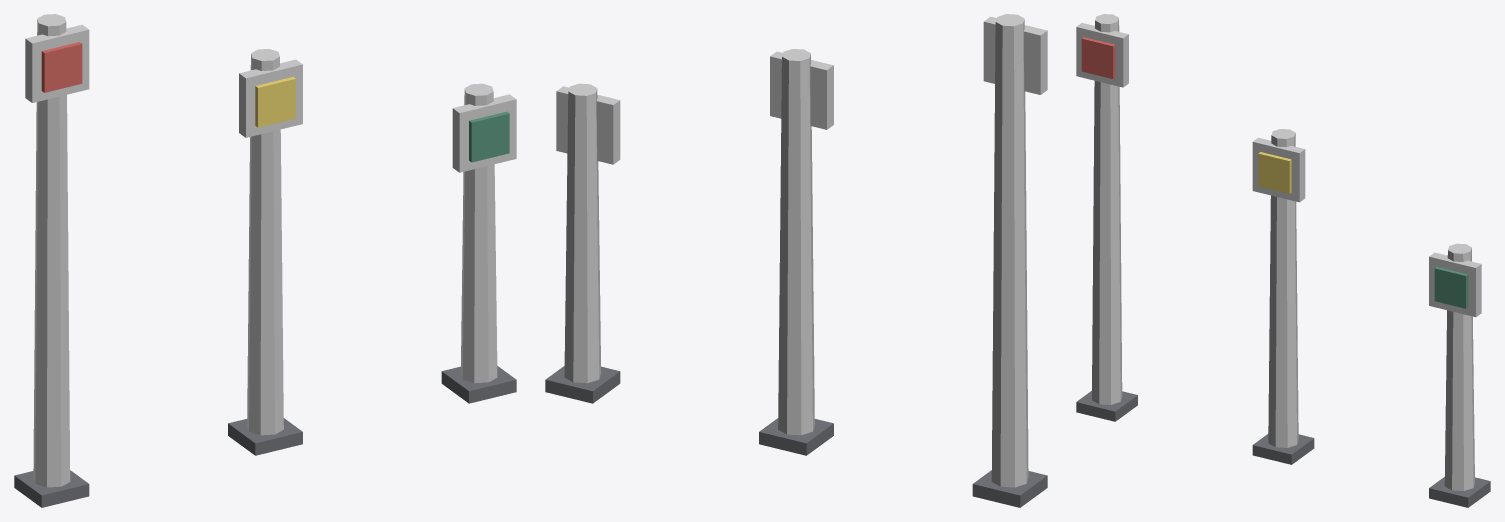
File: racecourse-and-parade-ring-distance-pole-set-fc6c69e4__38602.glb
The picture shows the model from 3 angles, left to right: view 1: azimuth 30°, elevation 25°; view 2: azimuth 150°, elevation 25°; view 3: azimuth 330°, elevation 25°; orthographic projection. The views are drawn at different scales.
Visible parts, largest first — view 1: distance-pole-set; view 2: distance-pole-set; view 3: distance-pole-set.
Part boxes in pixels (x1=…): distance-pole-set: x1=14, y1=14, x2=516, y2=507; distance-pole-set: x1=545, y1=14, x2=1047, y2=507; distance-pole-set: x1=1076, y1=14, x2=1490, y2=507.
Bounding box in the file's own units: 2.04 × 1.9 × 0.2.
